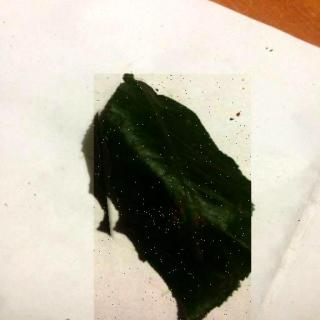Red Leaf Spot: (95, 75, 252, 320)
